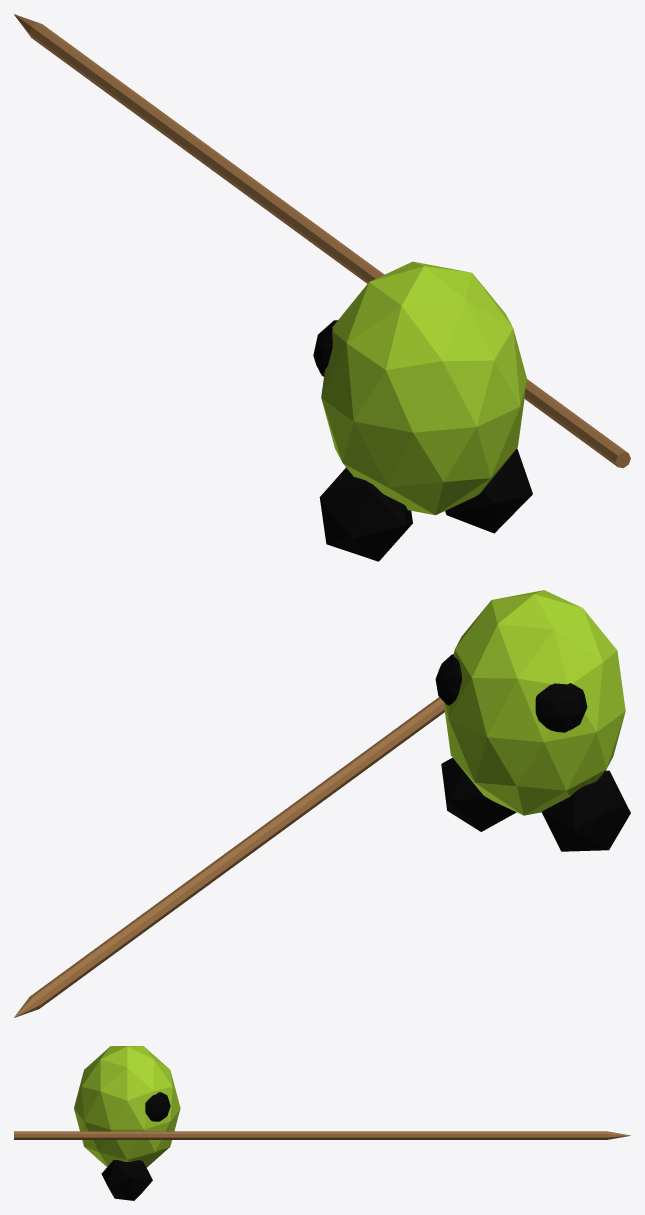
File: stab.f0008.glb
3 views of the same model, one above another, from view 1: azimuth 30°, elevation 25°; view 2: azimuth 150°, elevation 25°; view 3: azimuth 270°, elevation 25° (orthographic). The views are drawn at different scales.
Parts seen in each view (by area): view 1: Body.001; view 2: Body.001; view 3: Body.001.
Boxes of the visible parts, box(x1,y1,x2,y2) form: Body.001: box(14, 14, 630, 561); Body.001: box(14, 590, 630, 1017); Body.001: box(14, 1046, 630, 1200).
Bounding box in the file's own units: 2.17 × 2.85 × 11.56.
Materials: 1 (1 with a texture image).
